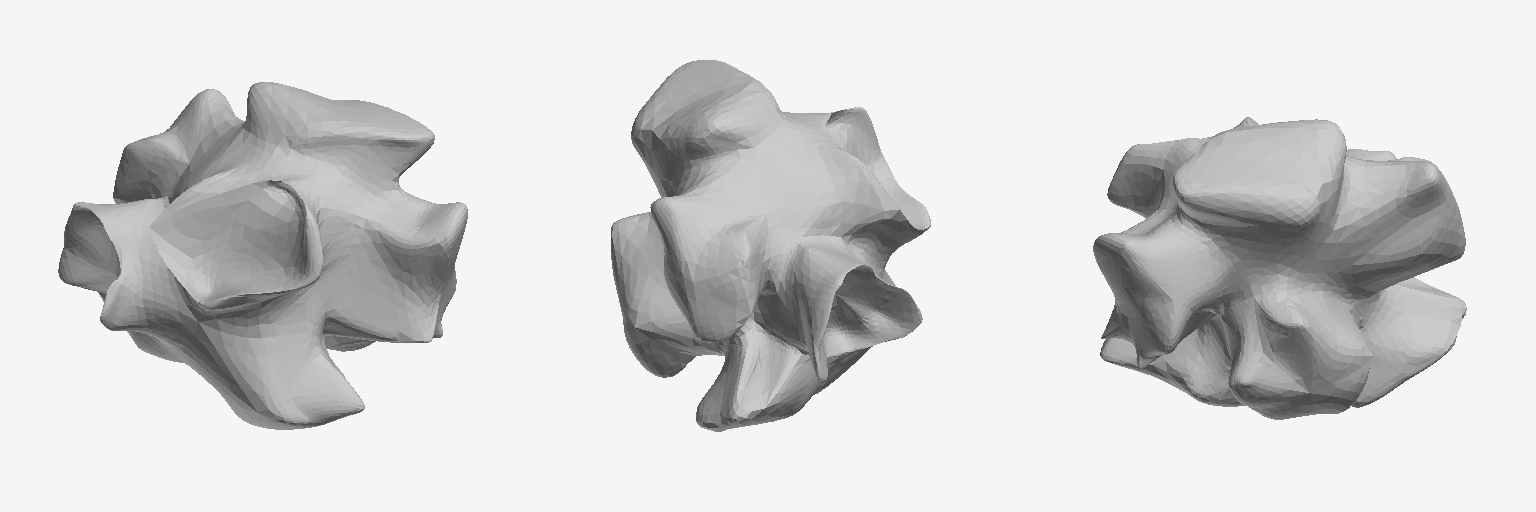
File: popcorn.obj
3 renders of one model, left to right at view 1: azimuth 30°, elevation 25°; view 2: azimuth 150°, elevation 25°; view 3: azimuth 270°, elevation 25°, orthographic.
Parts seen in each view (by area): view 1: Subdivision_Surface Popcorn; view 2: Subdivision_Surface Popcorn; view 3: Subdivision_Surface Popcorn.
Part boxes in pixels (left/top/right/bottom): Subdivision_Surface Popcorn: left=58, top=82, right=467, bottom=429; Subdivision_Surface Popcorn: left=611, top=60, right=930, bottom=431; Subdivision_Surface Popcorn: left=1093, top=117, right=1466, bottom=419.
Bounding box in the file's own units: 1.88 × 1.73 × 1.97.